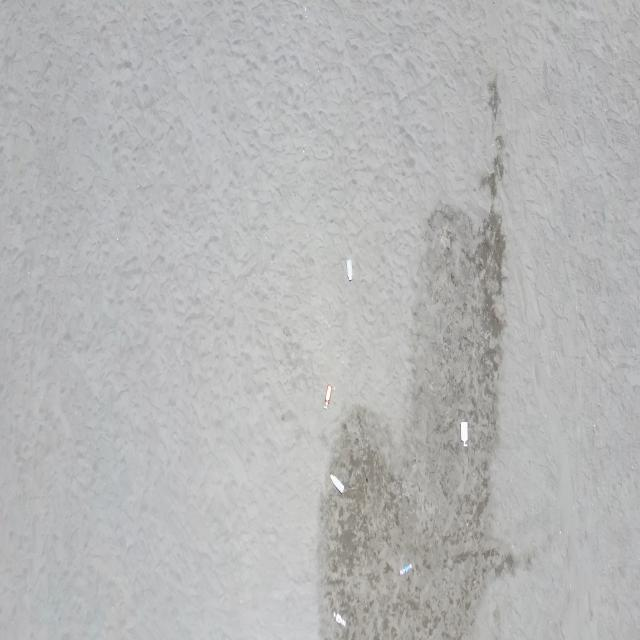plastic-bottle: (329, 472, 345, 495), (460, 419, 470, 449), (397, 561, 413, 579), (334, 612, 349, 629), (324, 384, 333, 409), (346, 258, 354, 284)
